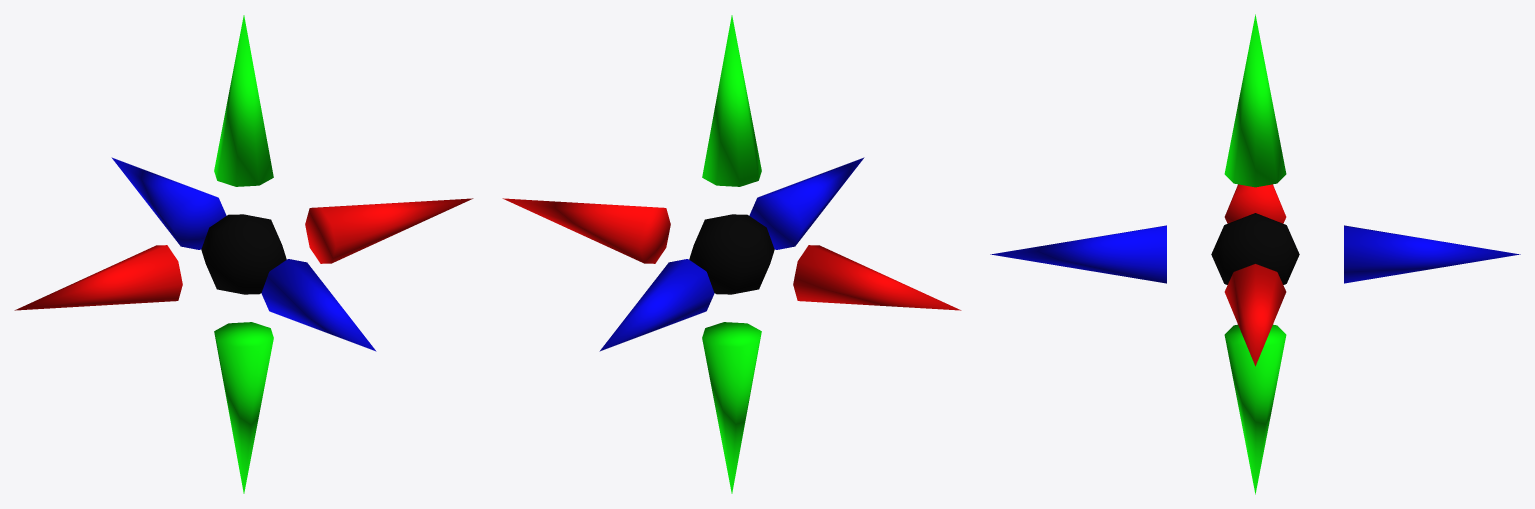
File: Gyro.fbx
3 renders of one model, left to right at view 1: azimuth 30°, elevation 25°; view 2: azimuth 150°, elevation 25°; view 3: azimuth 270°, elevation 25°, orthographic.
Parts seen in each view (by area): view 1: Y+, Y-, X+, X-, Sphere, Z-, Z+; view 2: Y+, Y-, X+, X-, Sphere, Z+, Z-; view 3: Y+, Z+, Z-, Y-, Sphere, X-, X+.
Part boxes in pixels (box(x1,y1,x2,y2)): Y+: box(214, 15, 273, 186); Y-: box(214, 322, 273, 493); X+: box(14, 245, 182, 310); X-: box(305, 198, 473, 263); Sphere: box(201, 214, 286, 294); Z-: box(261, 259, 376, 351); Z+: box(111, 157, 226, 249); Y+: box(702, 15, 761, 186); Y-: box(702, 322, 761, 493); X+: box(793, 245, 961, 310); X-: box(502, 198, 670, 263); Sphere: box(689, 214, 774, 294); Z+: box(599, 259, 714, 351); Z-: box(749, 157, 864, 249); Y+: box(1224, 14, 1286, 187); Z+: box(1344, 225, 1520, 283); Z-: box(990, 225, 1166, 283); Y-: box(1224, 324, 1286, 494); Sphere: box(1211, 213, 1299, 284); X-: box(1224, 264, 1286, 366); X+: box(1224, 184, 1286, 223).
Size of the model in its own units: 1.2 by 1.2 by 1.2.
